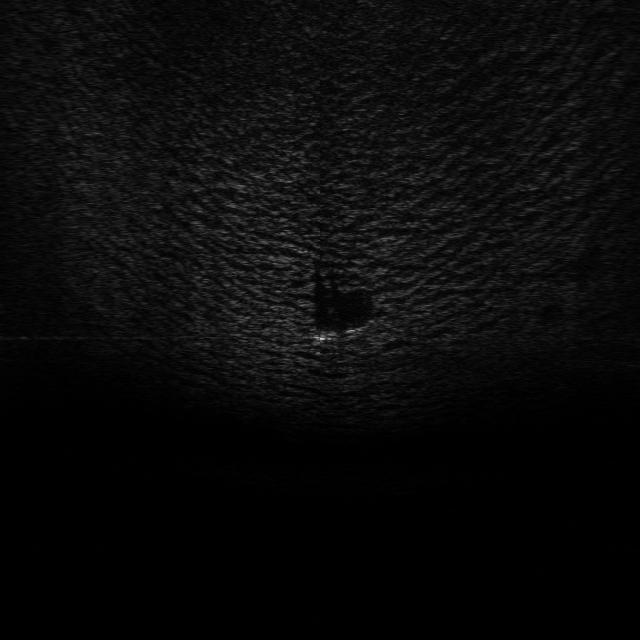plane: (310, 317, 382, 348)
